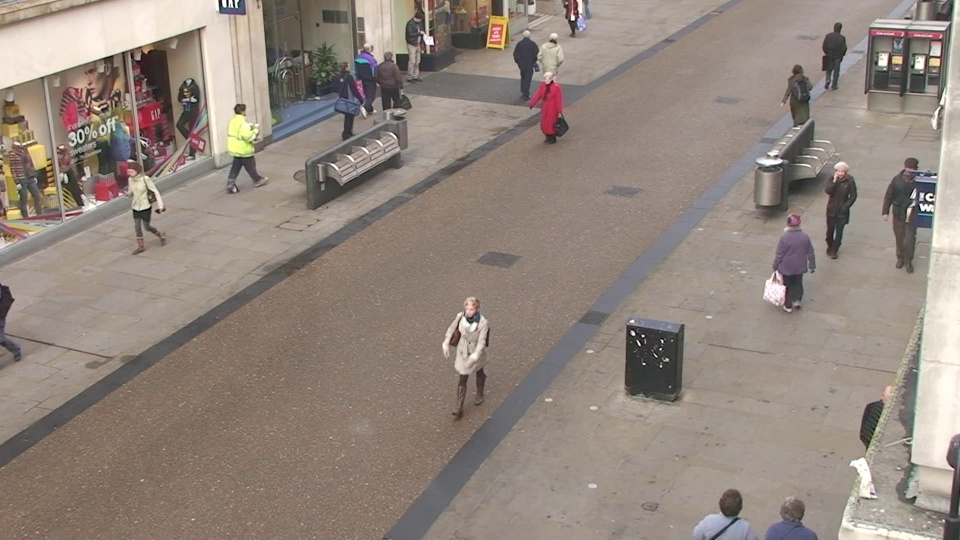pedestrian: (450, 290, 497, 432), (770, 207, 814, 328), (882, 152, 929, 260), (117, 159, 162, 263), (816, 158, 859, 266), (696, 474, 761, 540), (756, 480, 822, 540), (225, 99, 260, 188), (779, 61, 811, 143), (535, 69, 563, 152), (819, 20, 850, 94), (331, 57, 360, 136), (375, 48, 403, 125), (355, 39, 382, 112), (542, 29, 567, 101), (513, 27, 538, 97), (405, 10, 430, 76)
